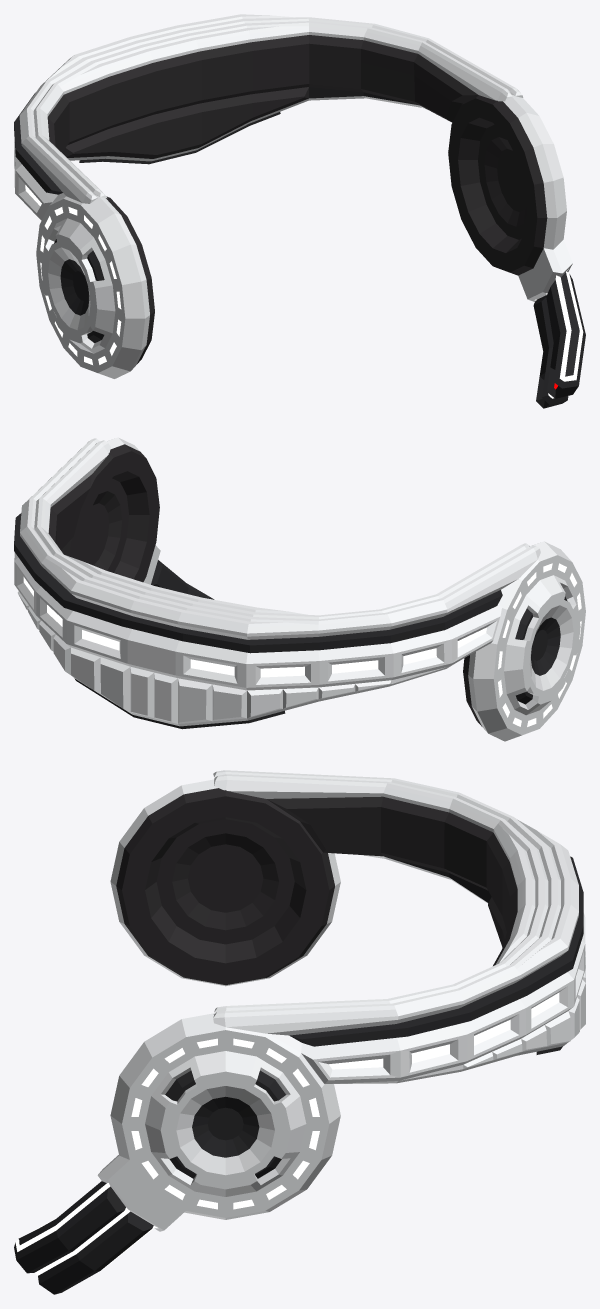
File: headphone.glb
The picture shows the model from 3 angles, top to bottom: view 1: azimuth 30°, elevation 25°; view 2: azimuth 150°, elevation 25°; view 3: azimuth 270°, elevation 25°; orthographic projection. The views are drawn at different scales.
Parts seen in each view (by area): view 1: Headphone_Header, Headphone, Headphone_Dynamic, Headphone_Micro; view 2: Headphone_Header, Headphone, Headphone_Dynamic, Headphone_Micro; view 3: Headphone_Header, Headphone, Headphone_Dynamic, Headphone_Micro.
Part boxes in pixels (x1,y1,x2,y2): Headphone_Header: (14, 14, 523, 220); Headphone: (36, 95, 566, 378); Headphone_Dynamic: (41, 124, 527, 353); Headphone_Micro: (518, 239, 585, 408); Headphone_Header: (14, 438, 540, 729); Headphone: (61, 437, 585, 741); Headphone_Dynamic: (78, 478, 580, 715); Headphone_Micro: (143, 545, 216, 600); Headphone_Header: (213, 770, 585, 1083); Headphone: (110, 779, 340, 1219); Headphone_Dynamic: (145, 819, 306, 1196); Headphone_Micro: (14, 1155, 185, 1294).
Bounding box in the file's own units: 20.3 × 10.76 × 18.61.
1 material, 1 textured.
